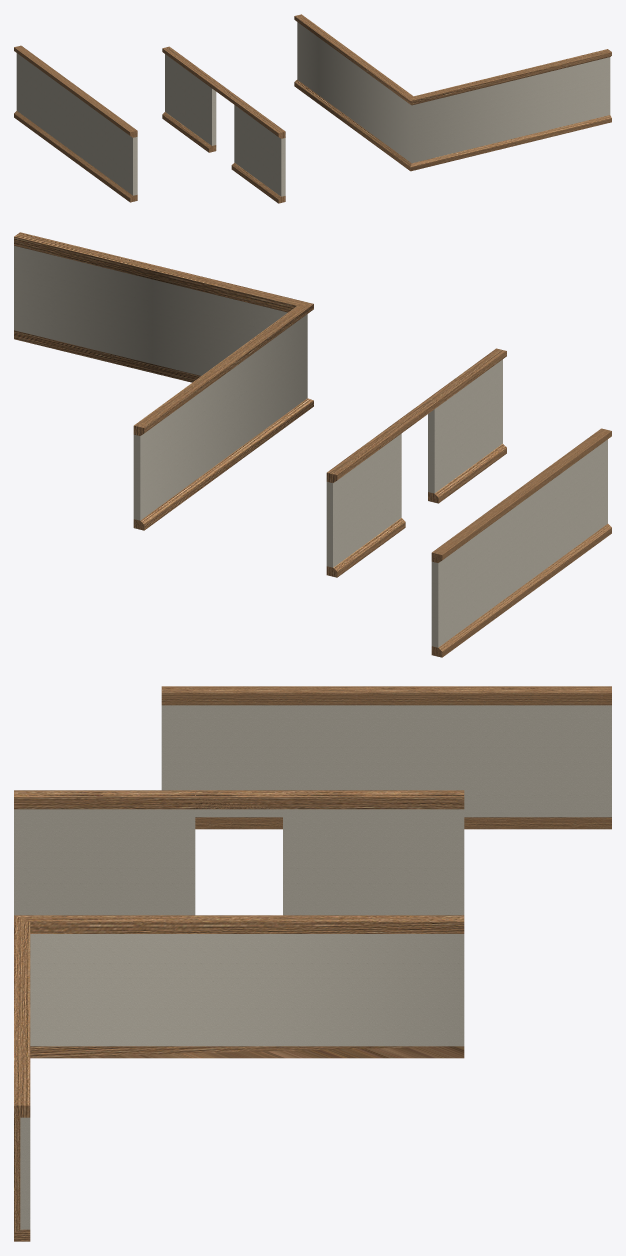
Rendered from wallSet3.FBX.
3 views of the same model, one above another, from view 1: azimuth 30°, elevation 25°; view 2: azimuth 150°, elevation 25°; view 3: azimuth 270°, elevation 25° (orthographic). The views are drawn at different scales.
Parts seen in each view (by area): view 1: Box002, Box001, Box003; view 2: Box002, Box001, Box003; view 3: Box002, Box001, Box003.
Boxes of the visible parts, box(x1,y1,x2,y2) form: Box002: box(294, 14, 611, 171); Box001: box(14, 45, 137, 202); Box003: box(162, 46, 285, 203); Box002: box(14, 232, 313, 530); Box001: box(431, 428, 611, 657); Box003: box(326, 348, 506, 577); Box002: box(14, 915, 464, 1241); Box001: box(161, 686, 611, 829); Box003: box(14, 790, 464, 915).
Size of the model in its own units: 793 by 120 by 478.
1 material, 1 textured.
